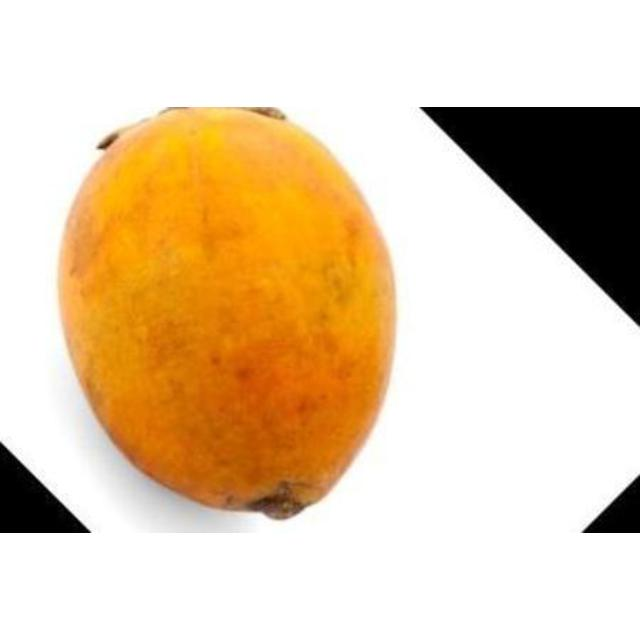good: (54, 107, 400, 522)
